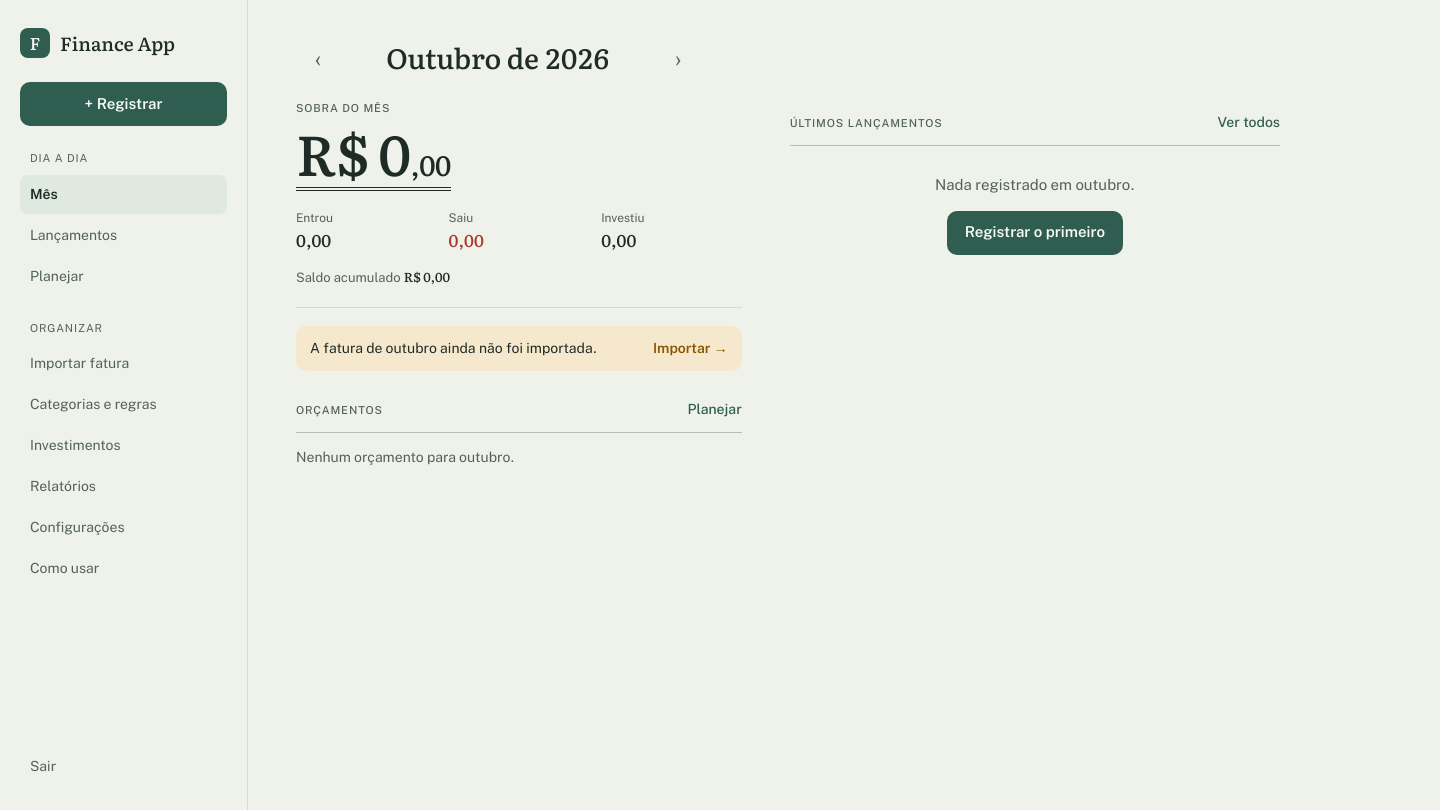
Scenario: Mês (página inicial) › lembra de importar a fatura do mês corrente enquanto ela não foi importada
This screenshot has width=1440, height=810.
Click the button named "Mês anterior": (318, 58) [296,36,340,80]
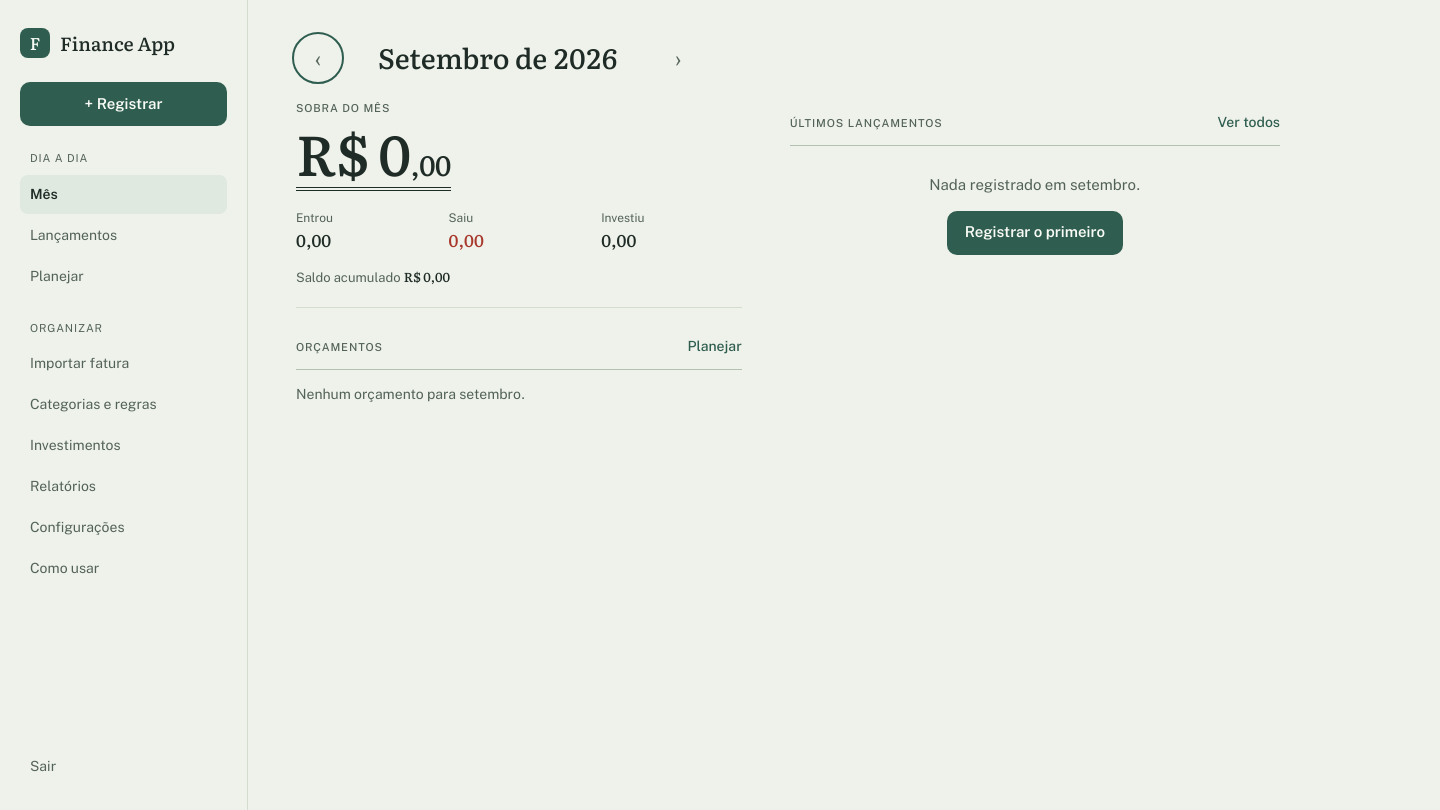
Expected: the link "ainda não foi importada" is gone
